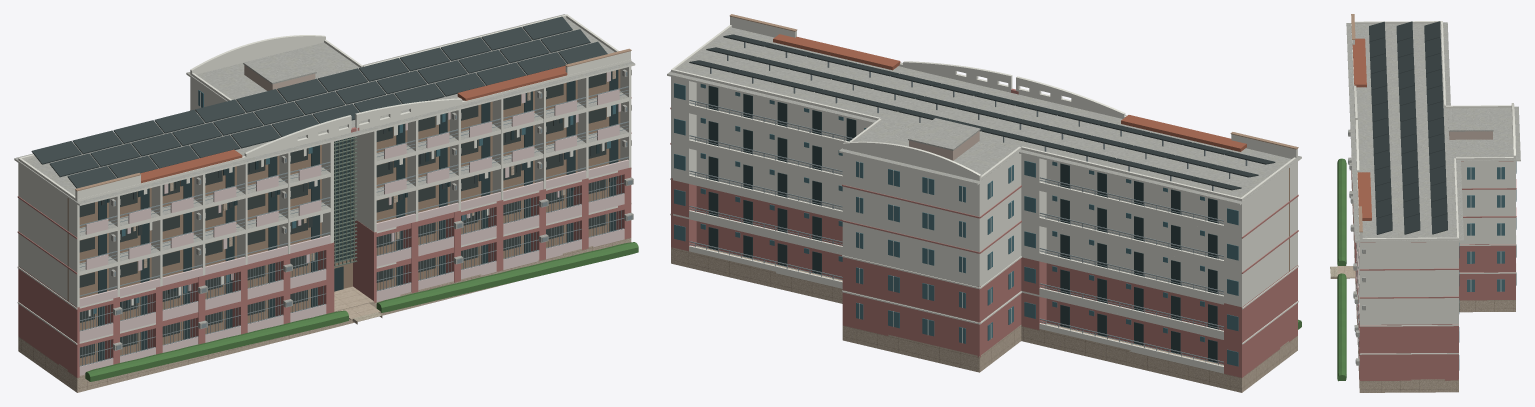
The model's file is chunk-dorm-way-759158608.glb.
3 views of the same model, side by side, from view 1: azimuth 30°, elevation 25°; view 2: azimuth 150°, elevation 25°; view 3: azimuth 270°, elevation 25° (orthographic). The views are drawn at different scales.
Parts seen in each view (by area): view 1: chunk-dorm-way-759158608; view 2: chunk-dorm-way-759158608; view 3: chunk-dorm-way-759158608.
Boxes of the visible parts, x1=… form: chunk-dorm-way-759158608: x1=14, y1=14, x2=638, y2=392; chunk-dorm-way-759158608: x1=667, y1=14, x2=1301, y2=392; chunk-dorm-way-759158608: x1=1330, y1=14, x2=1520, y2=392.
Size of the model in its own units: 55.33 by 19.44 by 20.32.
17 materials, 3 textured.
